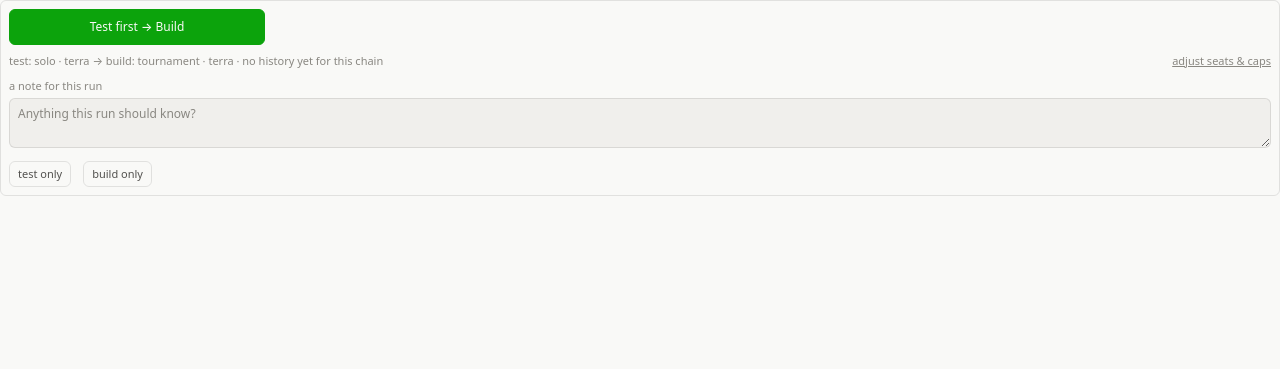
Test: participant modes project the implementer line-up, not every role › labels the TDD block's contestants with the implementer entry's project provenance
What coordinates should you click on to do the following:
click the button with test id "tdd-tune"
I would click on:
 (1222, 61)
Its box is [1172, 53, 1271, 70].
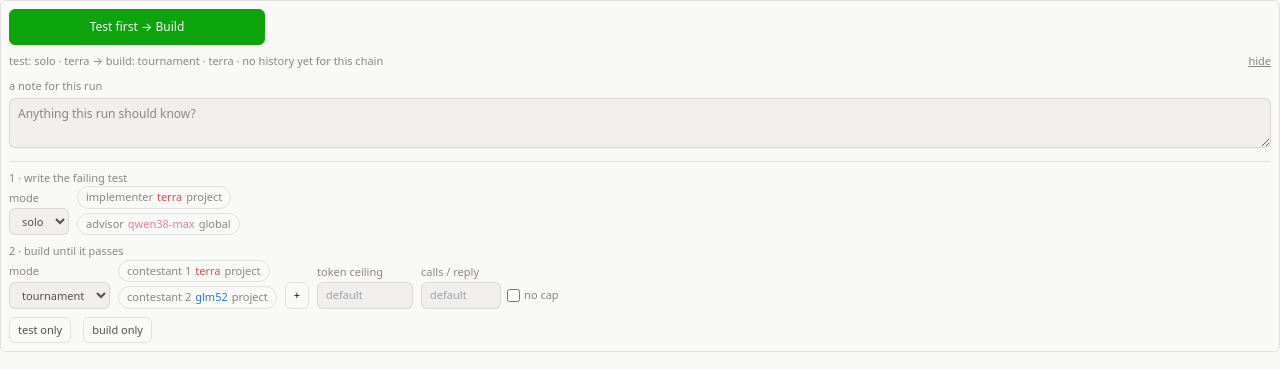
expect the element with test id "seat-chip" does not show "global": met
expect the button with test id "seat-chip" shows "project": met, box [118, 260, 270, 282]
